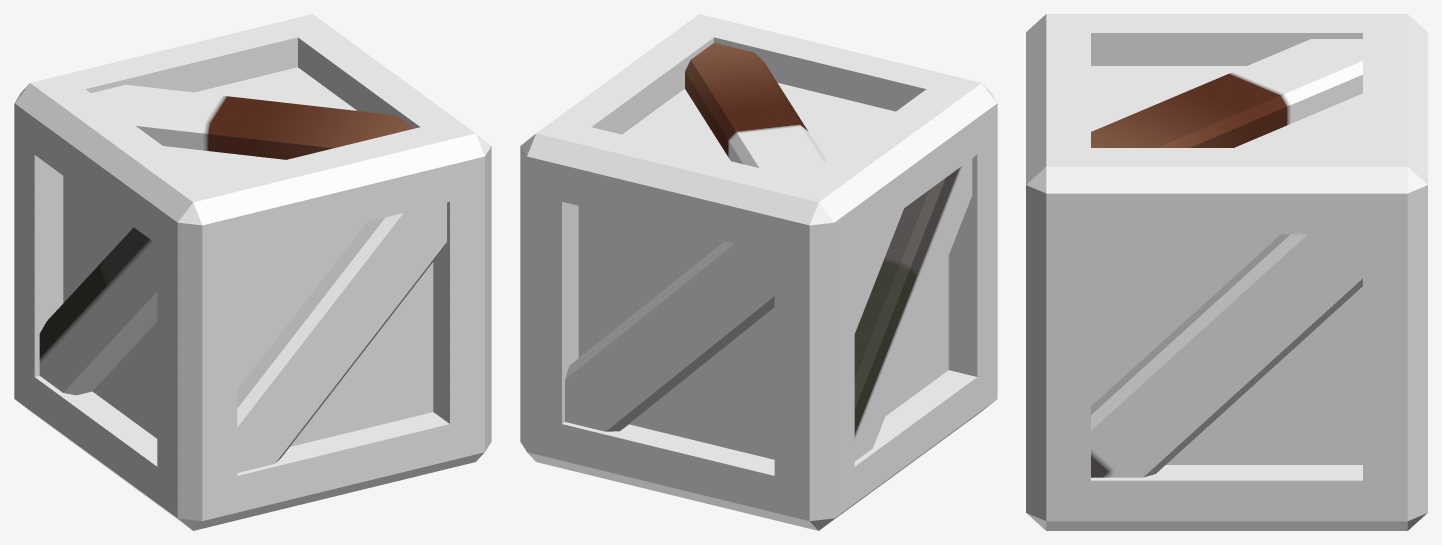
Rendered from ArenaScene_Cage.fbx.
The picture shows the model from 3 angles, left to right: view 1: azimuth 30°, elevation 25°; view 2: azimuth 150°, elevation 25°; view 3: azimuth 270°, elevation 25°; orthographic projection. The views are drawn at different scales.
Parts seen in each view (by area): view 1: WindowScene_Cage_01; view 2: WindowScene_Cage_01; view 3: WindowScene_Cage_01.
Part boxes in pixels (x1,y1,x2,y2): WindowScene_Cage_01: [14, 14, 491, 530]; WindowScene_Cage_01: [520, 14, 997, 530]; WindowScene_Cage_01: [1026, 14, 1427, 530].
Size of the model in its own units: 243 by 243 by 243.
1 material, 1 textured.
